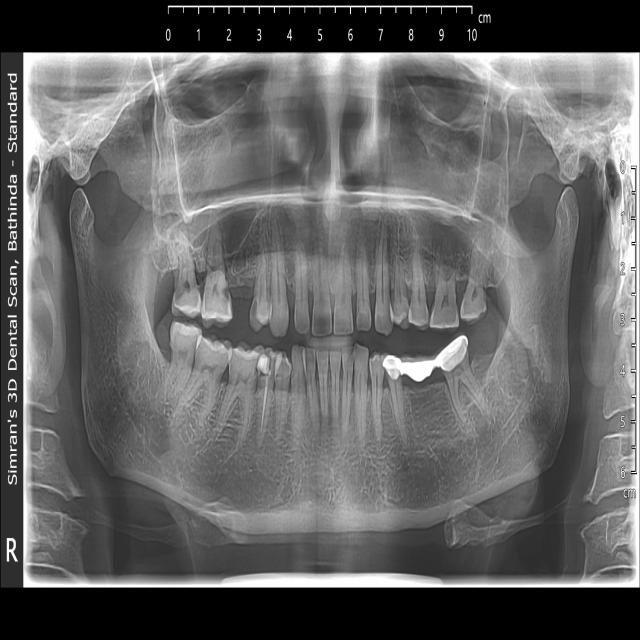Caries: (175, 269, 185, 299), (219, 283, 232, 306), (250, 297, 260, 321)
Crown: (436, 332, 467, 370), (402, 357, 437, 381), (381, 355, 404, 382)
Filling: (255, 352, 269, 375)
Mandibular Canal: (430, 345, 550, 493), (109, 343, 210, 487)
Missing teeth: (228, 282, 255, 322)
Root Canal Treatment: (260, 370, 271, 434)
maxillary sinus: (387, 86, 509, 258), (154, 85, 274, 258)
